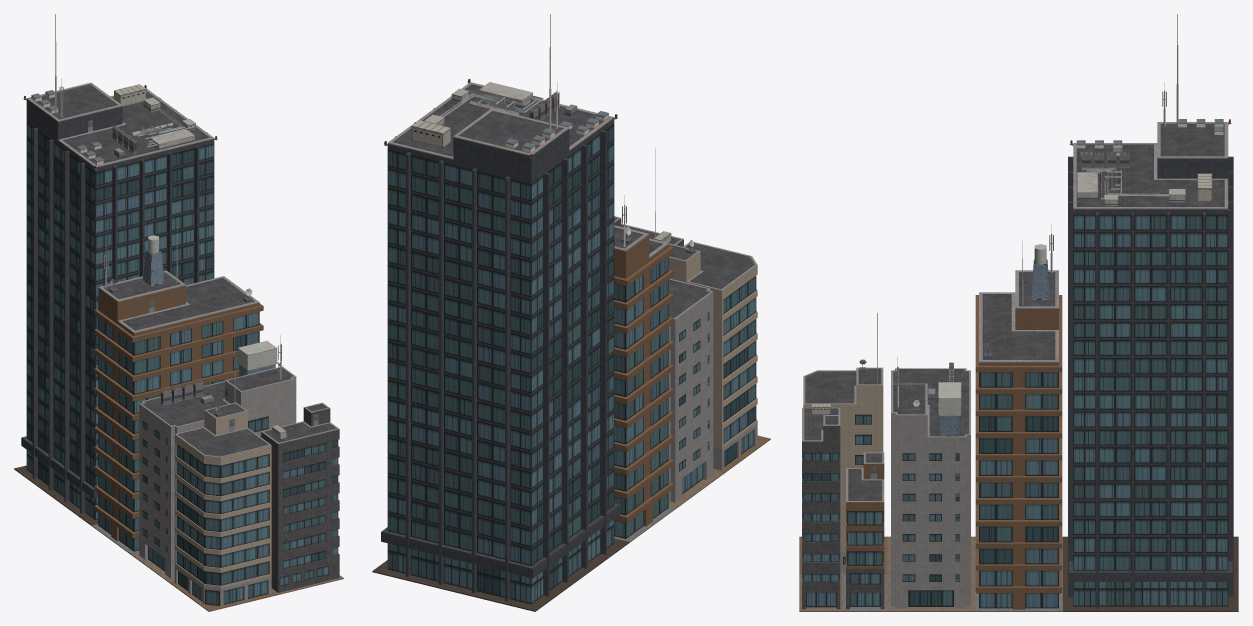
The model's file is jctlowBldSetA.fbx.
The picture shows the model from 3 angles, left to right: view 1: azimuth 30°, elevation 25°; view 2: azimuth 150°, elevation 25°; view 3: azimuth 270°, elevation 25°; orthographic projection. The views are drawn at different scales.
Visible parts, largest first — view 1: jctlowBldSetA; view 2: jctlowBldSetA; view 3: jctlowBldSetA.
Boxes of the visible parts, box(x1,y1,x2,y2) form: jctlowBldSetA: box(14, 14, 343, 611); jctlowBldSetA: box(372, 14, 770, 611); jctlowBldSetA: box(799, 14, 1238, 611).
Size of the model in its own units: 2400 by 8010 by 6000.
Materials: 14 (14 with a texture image).
